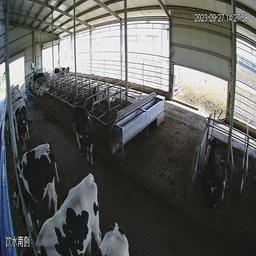cow: (32, 172, 102, 256), (18, 150, 60, 233), (63, 103, 96, 170), (203, 132, 227, 213), (15, 103, 29, 154), (90, 85, 117, 106), (52, 65, 72, 85), (33, 71, 48, 93), (35, 81, 51, 98)
